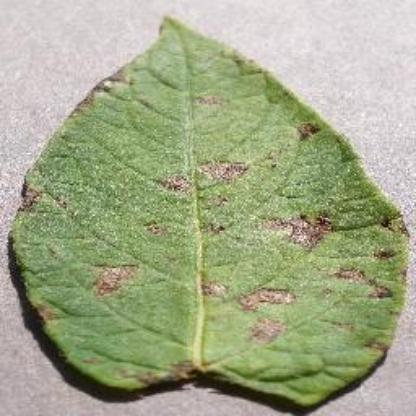Early-Blight: (9, 13, 410, 411)
